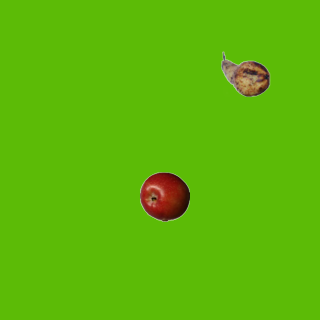Apple Braeburn: (139, 171, 189, 221)
Pear Abate: (220, 49, 270, 99)
